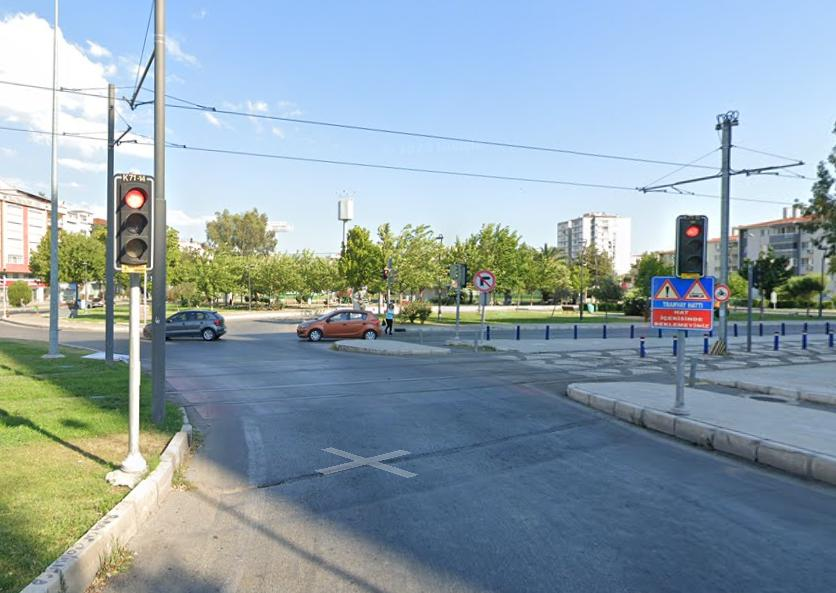redlight: (115, 172, 154, 273), (674, 214, 710, 279)
rightturnsareforbidden: (475, 271, 496, 293)
